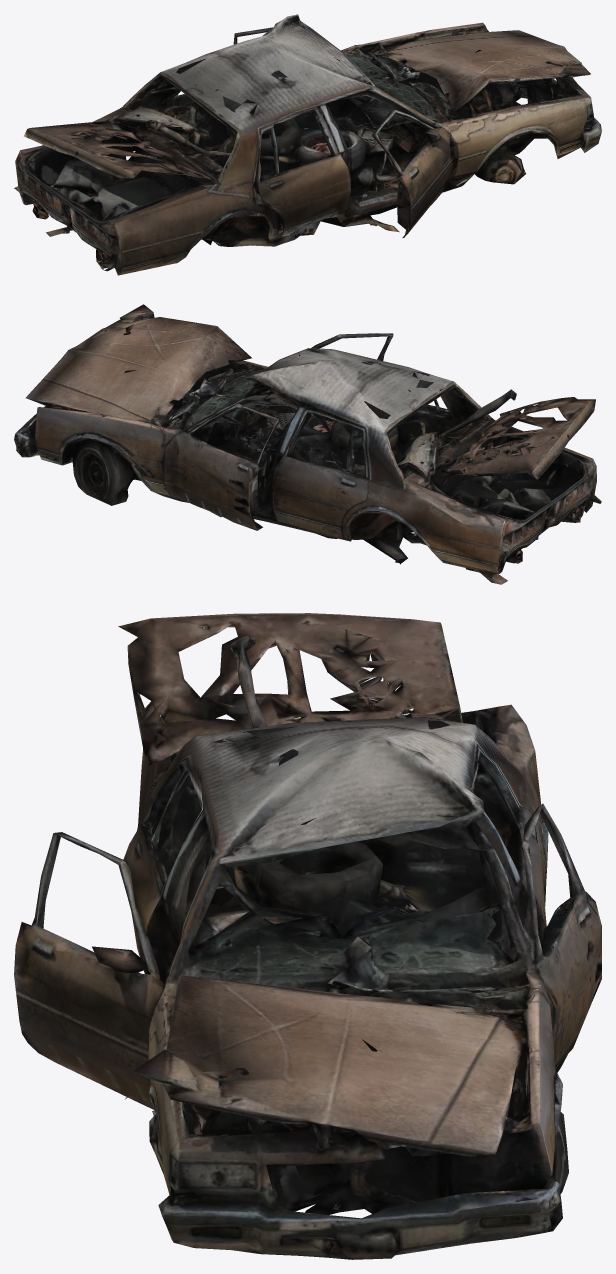
Rendered from car_sedan.glb.
The picture shows the model from 3 angles, top to bottom: view 1: azimuth 30°, elevation 25°; view 2: azimuth 150°, elevation 25°; view 3: azimuth 270°, elevation 25°; orthographic projection. The views are drawn at different scales.
Visible parts, largest first — view 1: Box001_caprice_low_Material_u1_v1_0; view 2: Box001_caprice_low_Material_u1_v1_0; view 3: Box001_caprice_low_Material_u1_v1_0.
Boxes of the visible parts, bbox=[...] form: Box001_caprice_low_Material_u1_v1_0: bbox=[14, 14, 601, 275]; Box001_caprice_low_Material_u1_v1_0: bbox=[14, 304, 601, 584]; Box001_caprice_low_Material_u1_v1_0: bbox=[14, 613, 601, 1259].
Size of the model in its own units: 5.2 by 1.58 by 2.68.
1 material, 1 textured.
